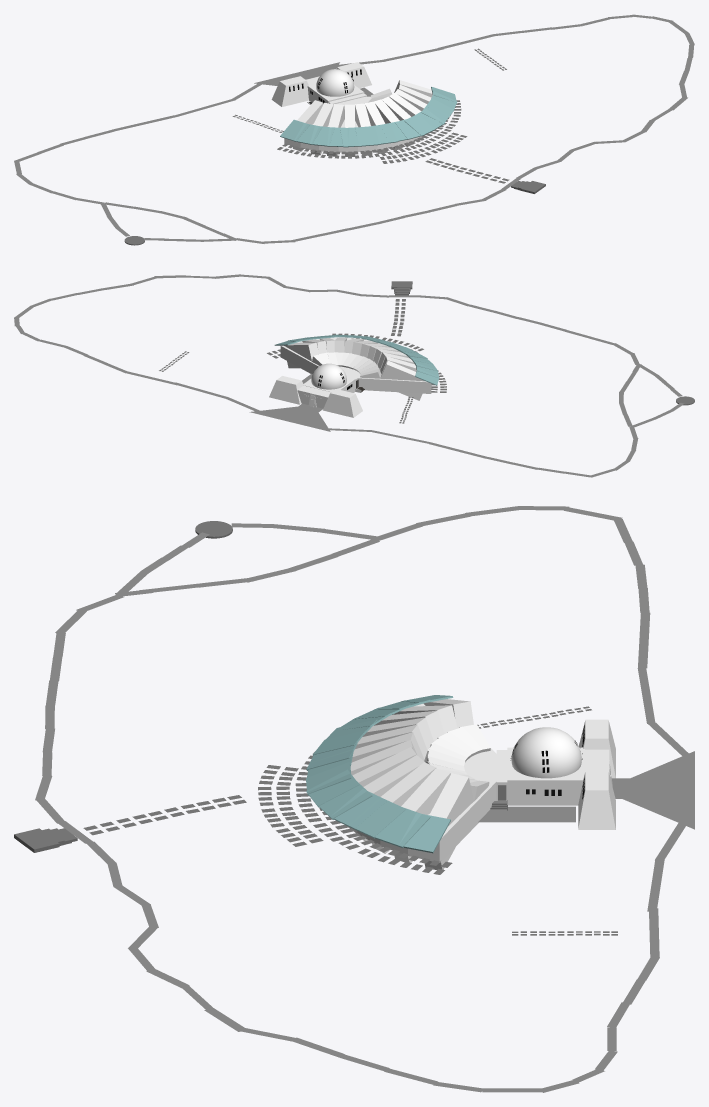
The model's file is asmundarsafn_nyasta_utgafa_8.4_12.47.obj.
The picture shows the model from 3 angles, top to bottom: view 1: azimuth 30°, elevation 25°; view 2: azimuth 150°, elevation 25°; view 3: azimuth 270°, elevation 25°; orthographic projection. The views are drawn at different scales.
Parts seen in each view (by area): view 1: Plane.001, der_yfir_thaki, thak, gangstett_i_kringum_hring, syningarsalur, Sphere, h_hlid, v_hlid, innanhus; view 2: Plane.001, thak, syningarsalur, der_yfir_thaki, h_hlid, Sphere, v_hlid, adaldyr, gangstett_i_kringum_hring; view 3: Plane.001, thak, der_yfir_thaki, gangstett_i_kringum_hring, syningarsalur, Sphere, innanhus, v_hlid, h_hlid, gangstett_ad_vatnsbera.
Boxes of the visible parts, left/top/right/bottom form: Plane.001: left=14, top=14, right=694, bottom=245; der_yfir_thaki: left=280, top=86, right=457, bottom=147; thak: left=293, top=80, right=432, bottom=156; gangstett_i_kringum_hring: left=277, top=100, right=467, bottom=163; syningarsalur: left=284, top=96, right=428, bottom=152; Sphere: left=316, top=69, right=354, bottom=96; h_hlid: left=271, top=76, right=308, bottom=106; v_hlid: left=336, top=62, right=371, bottom=88; innanhus: left=307, top=83, right=364, bottom=103; Plane.001: left=14, top=274, right=694, bottom=477; thak: left=284, top=337, right=424, bottom=400; syningarsalur: left=280, top=337, right=431, bottom=393; der_yfir_thaki: left=274, top=334, right=439, bottom=385; h_hlid: left=323, top=389, right=362, bottom=417; Sphere: left=311, top=363, right=346, bottom=389; v_hlid: left=269, top=376, right=303, bottom=404; adaldyr: left=297, top=385, right=330, bottom=408; gangstett_i_kringum_hring: left=267, top=333, right=446, bottom=392; Plane.001: left=14, top=506, right=694, bottom=1092; thak: left=350, top=699, right=490, bottom=869; der_yfir_thaki: left=306, top=695, right=453, bottom=853; gangstett_i_kringum_hring: left=258, top=752, right=452, bottom=874; syningarsalur: left=349, top=703, right=496, bottom=862; Sphere: left=511, top=727, right=581, bottom=778; innanhus: left=507, top=747, right=584, bottom=805; v_hlid: left=578, top=771, right=615, bottom=829; h_hlid: left=578, top=719, right=615, bottom=778; gangstett_ad_vatnsbera: left=83, top=795, right=246, bottom=835.
Bounding box in the file's own units: 148 × 8.94 × 72.34.
